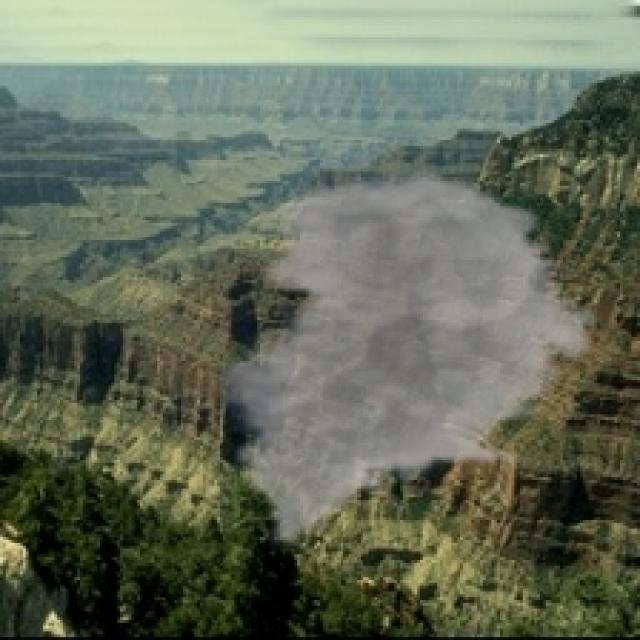smoke: (206, 166, 608, 551)
